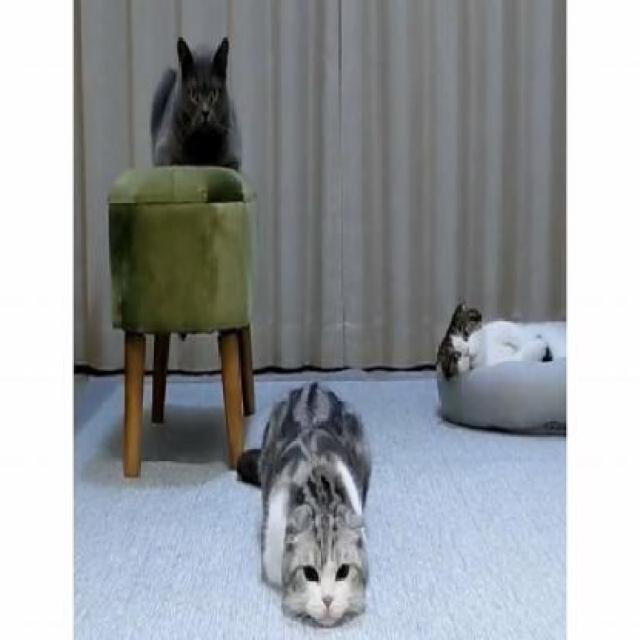cat: (237, 385, 372, 633), (150, 29, 244, 166), (434, 287, 568, 378)
